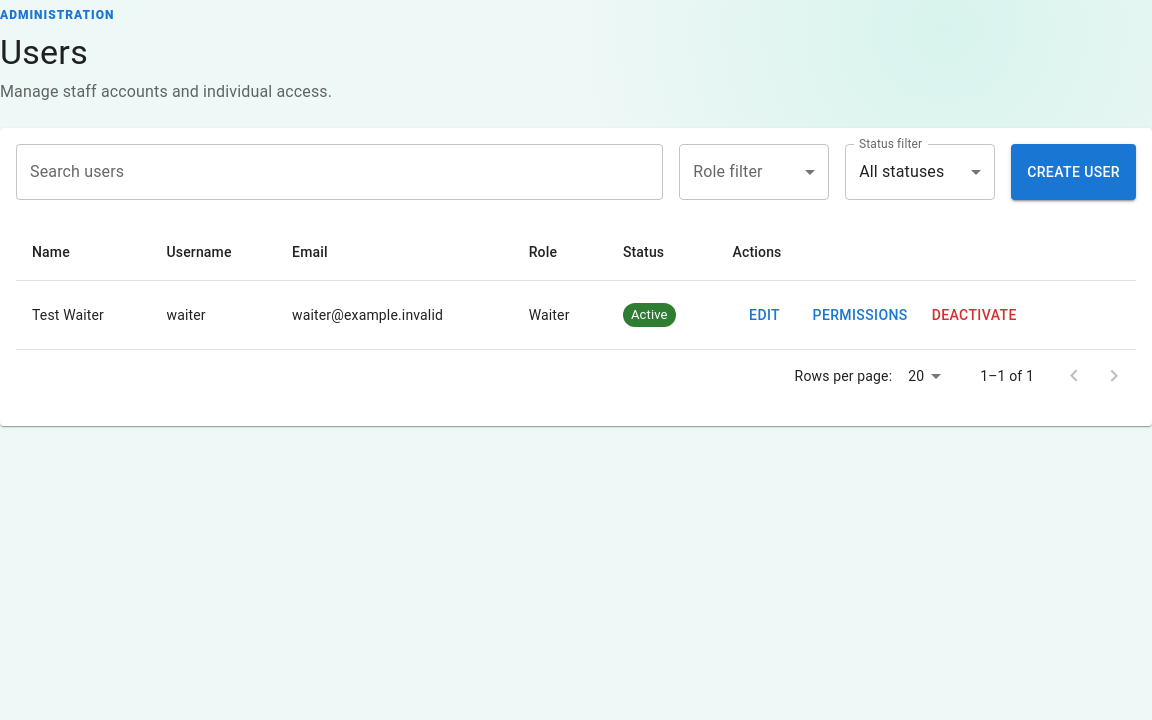
Scenario: requires a reason, confirms deactivation, and prevents duplicate submissions
This screenshot has width=1152, height=720.
Click the button with aria-label "Deactivate Test Waiter": (974, 315) left=924, top=297, right=1025, bottom=333
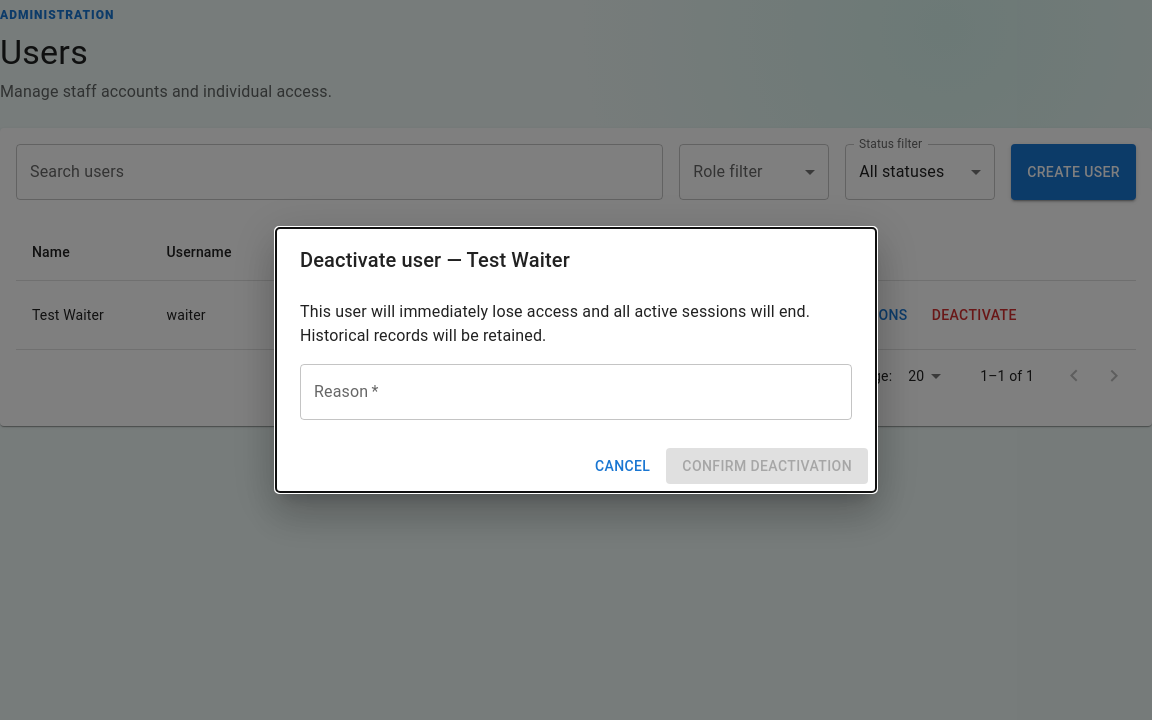
Check: the button "Confirm deactivation" is disabled, box left=666, top=448, right=868, bottom=484
In the text box labelled "Reason *": (576, 392) left=314, top=380, right=838, bottom=403, type "Left restaurant"
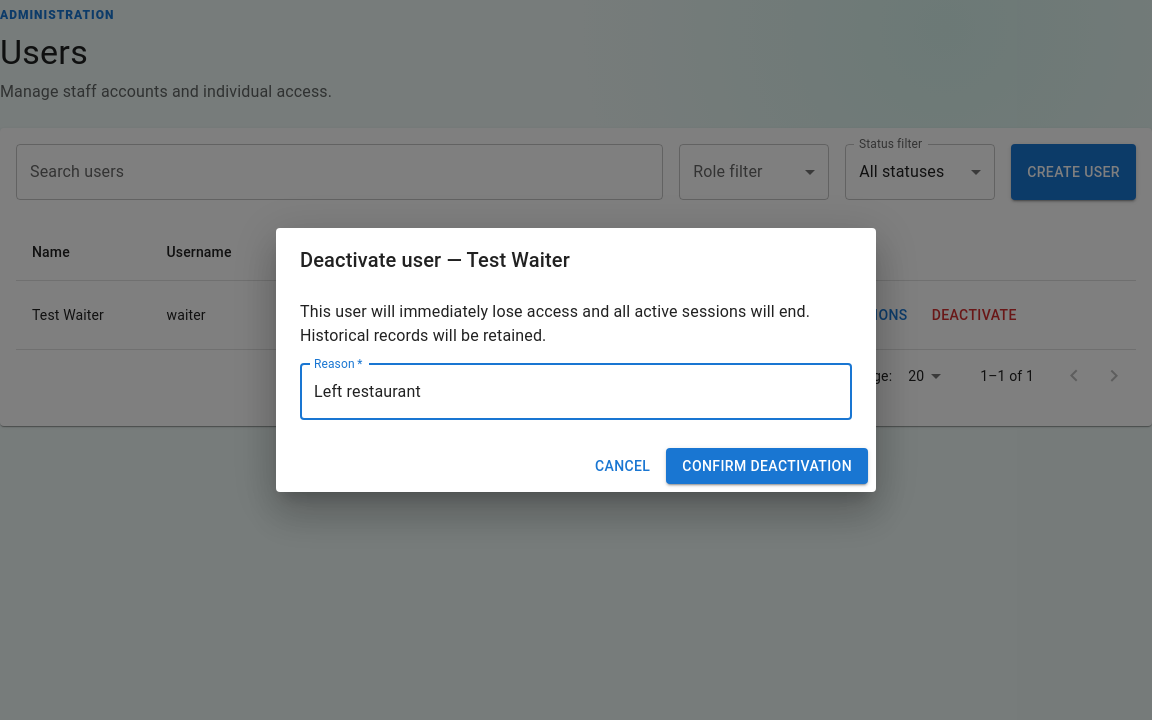
Double-click the button "Confirm deactivation": (767, 466) left=666, top=448, right=868, bottom=484
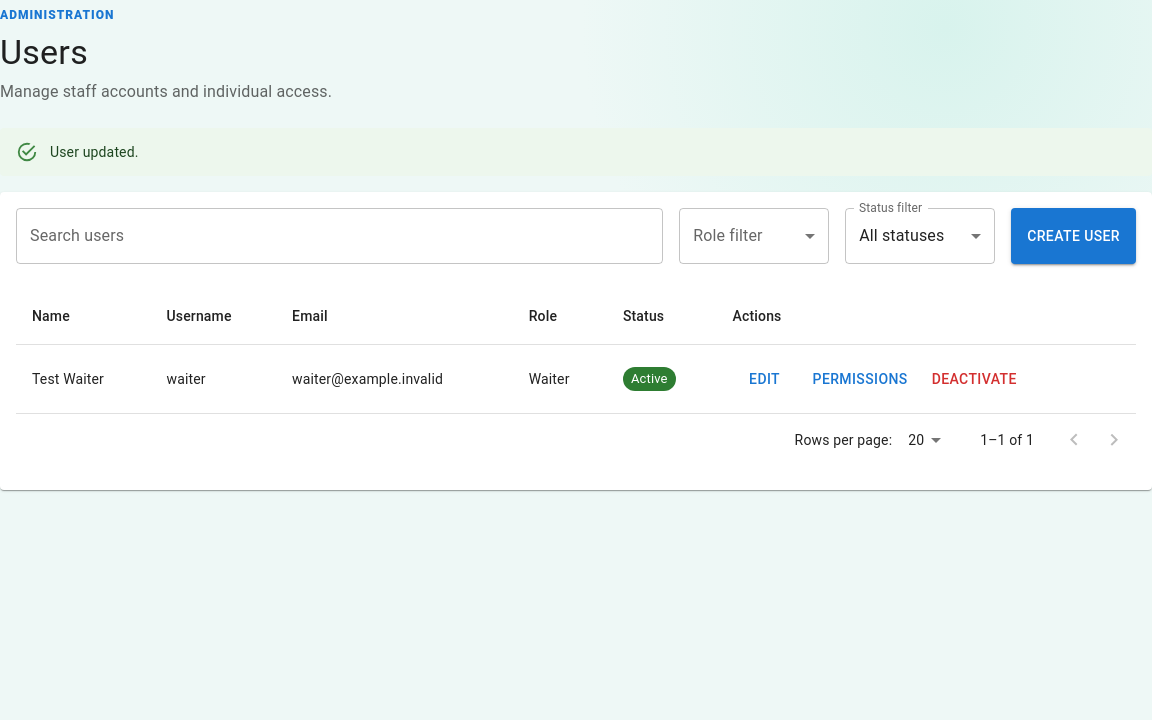
Check: the dialog is gone
